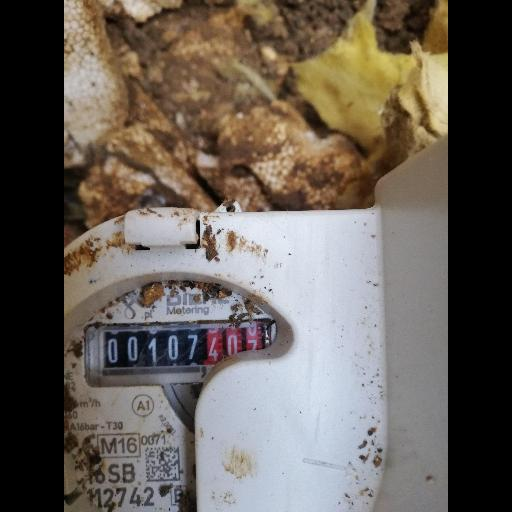0: (161, 327, 184, 367), (122, 330, 144, 369), (102, 331, 122, 370), (223, 327, 244, 359)
1: (142, 328, 164, 368)
4: (204, 327, 224, 365)
7: (180, 326, 206, 366), (244, 321, 262, 351)
border_water_meter_number: (84, 319, 273, 388)
